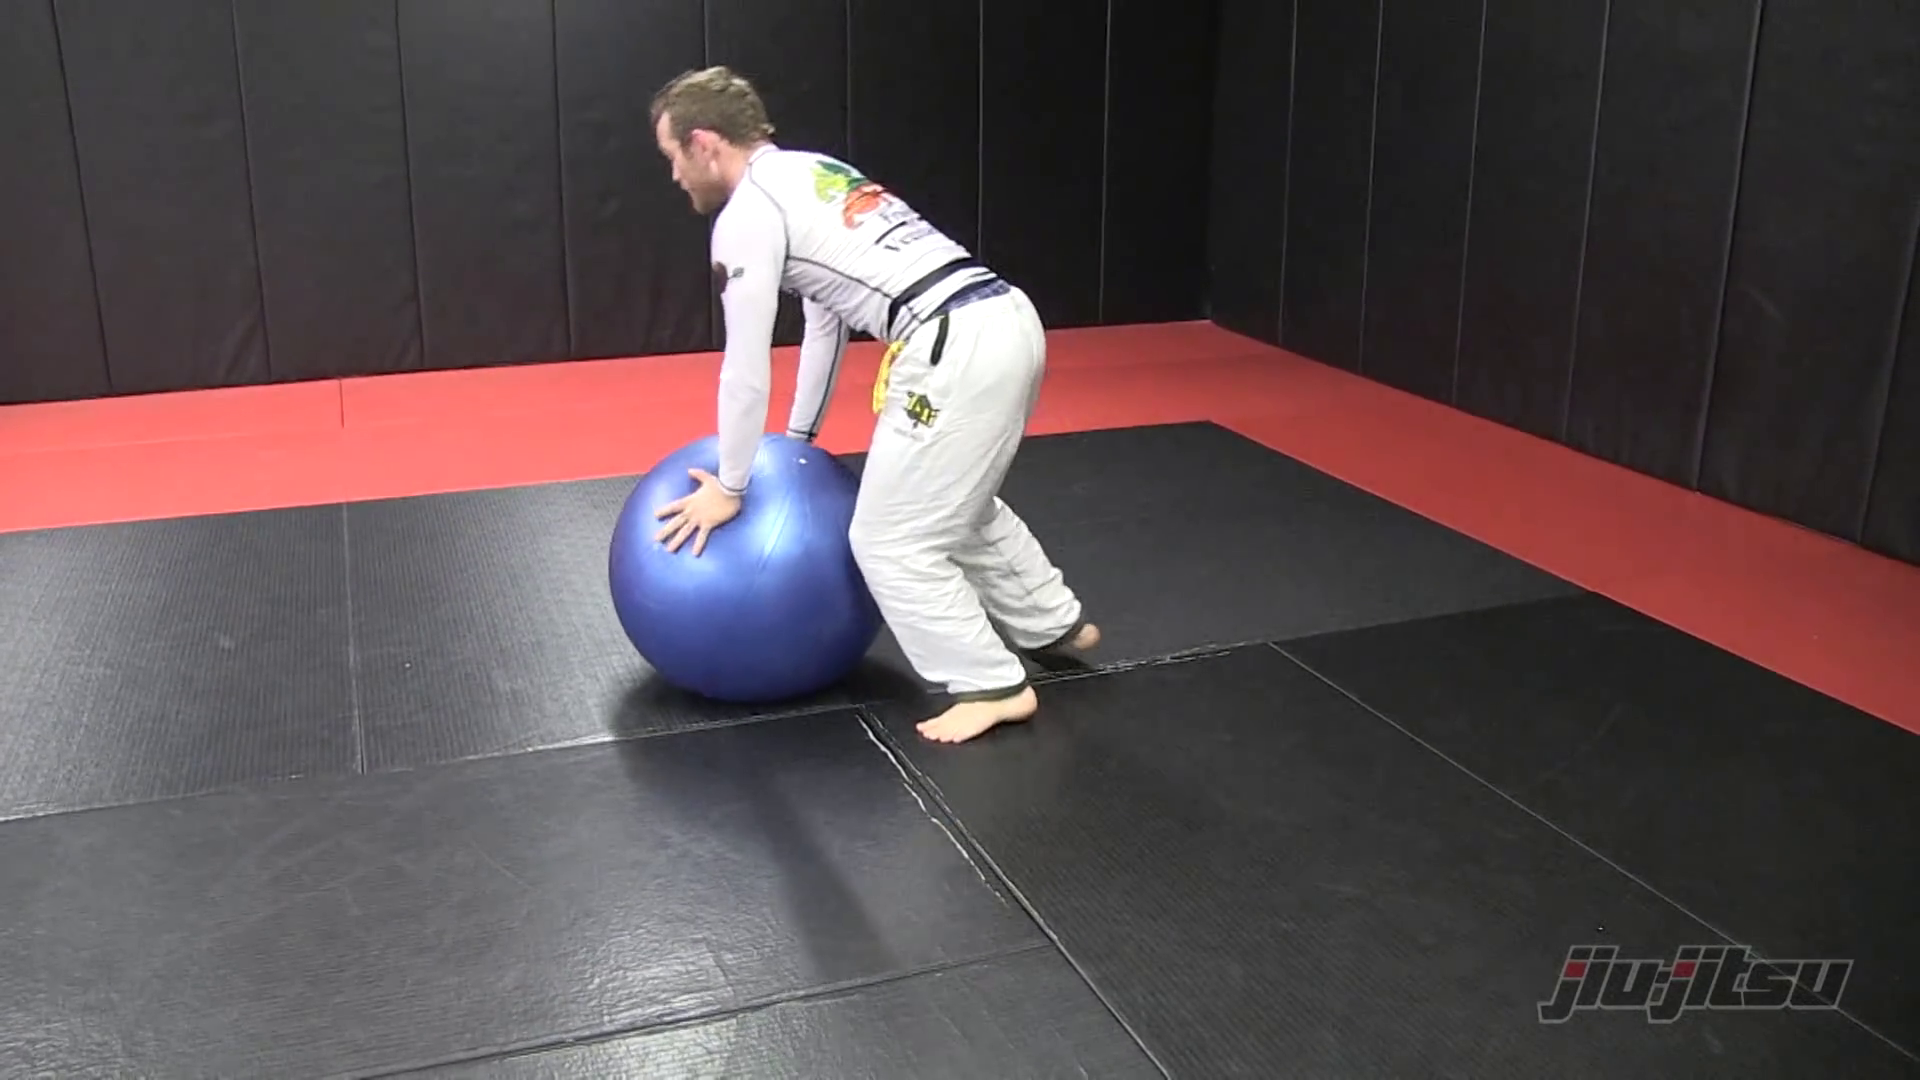yogaball: (592, 425, 911, 716)
